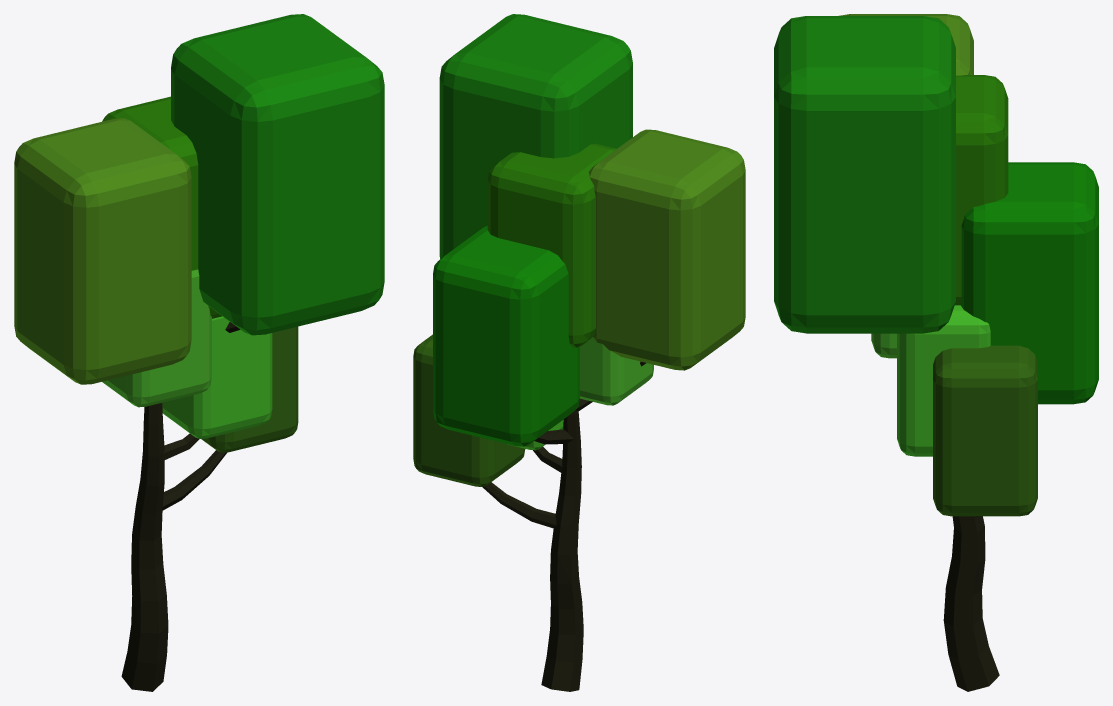
3 views of the same model, side by side, from view 1: azimuth 30°, elevation 25°; view 2: azimuth 150°, elevation 25°; view 3: azimuth 270°, elevation 25° (orthographic). The views are drawn at different scales.
Parts seen in each view (by area): view 1: OUT_TREE; view 2: OUT_TREE; view 3: OUT_TREE.
Part boxes in pixels (x1,y1,x2,y2): OUT_TREE: (14,14,384,691); OUT_TREE: (413,14,745,691); OUT_TREE: (774,14,1098,691).
Size of the model in its own units: 0.8087 by 1.71 by 0.734.
